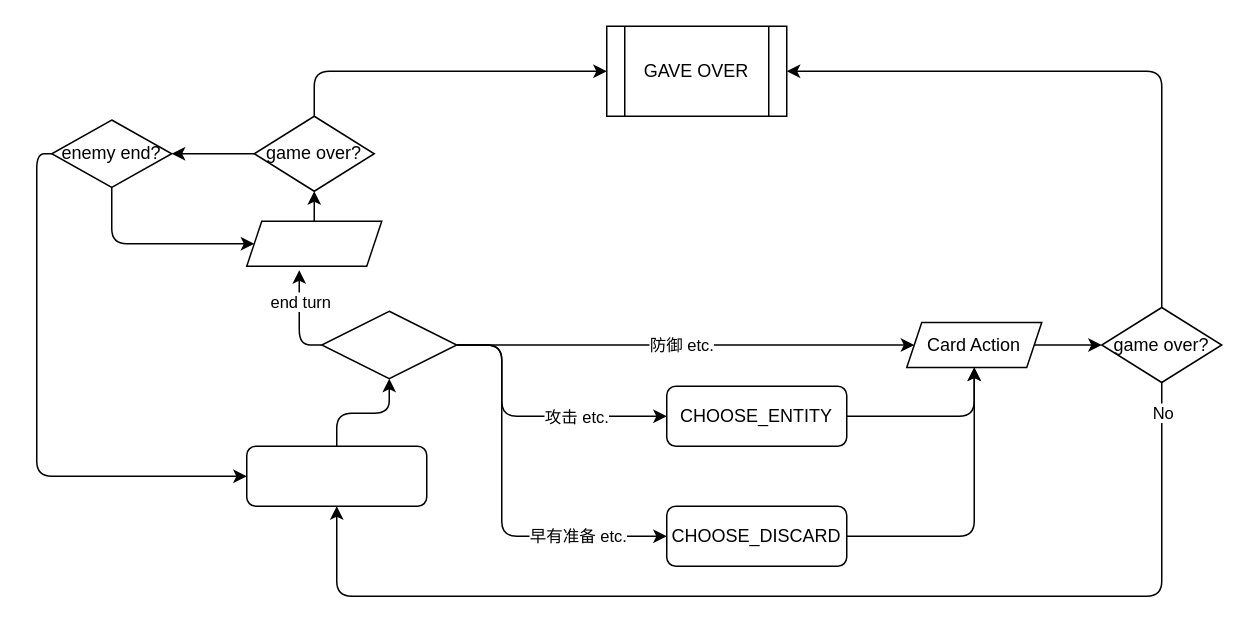
This 1248x635 diagram has some shape labels left out. The shapes that lost their labels are listed below. From the top down, each one's centre as x and y in pixels, then its label:
At point 313,243: "Enemy Acion".
At point 388,344: "Which Card?".
At point 336,475: "CHOOSE_CARDS".
